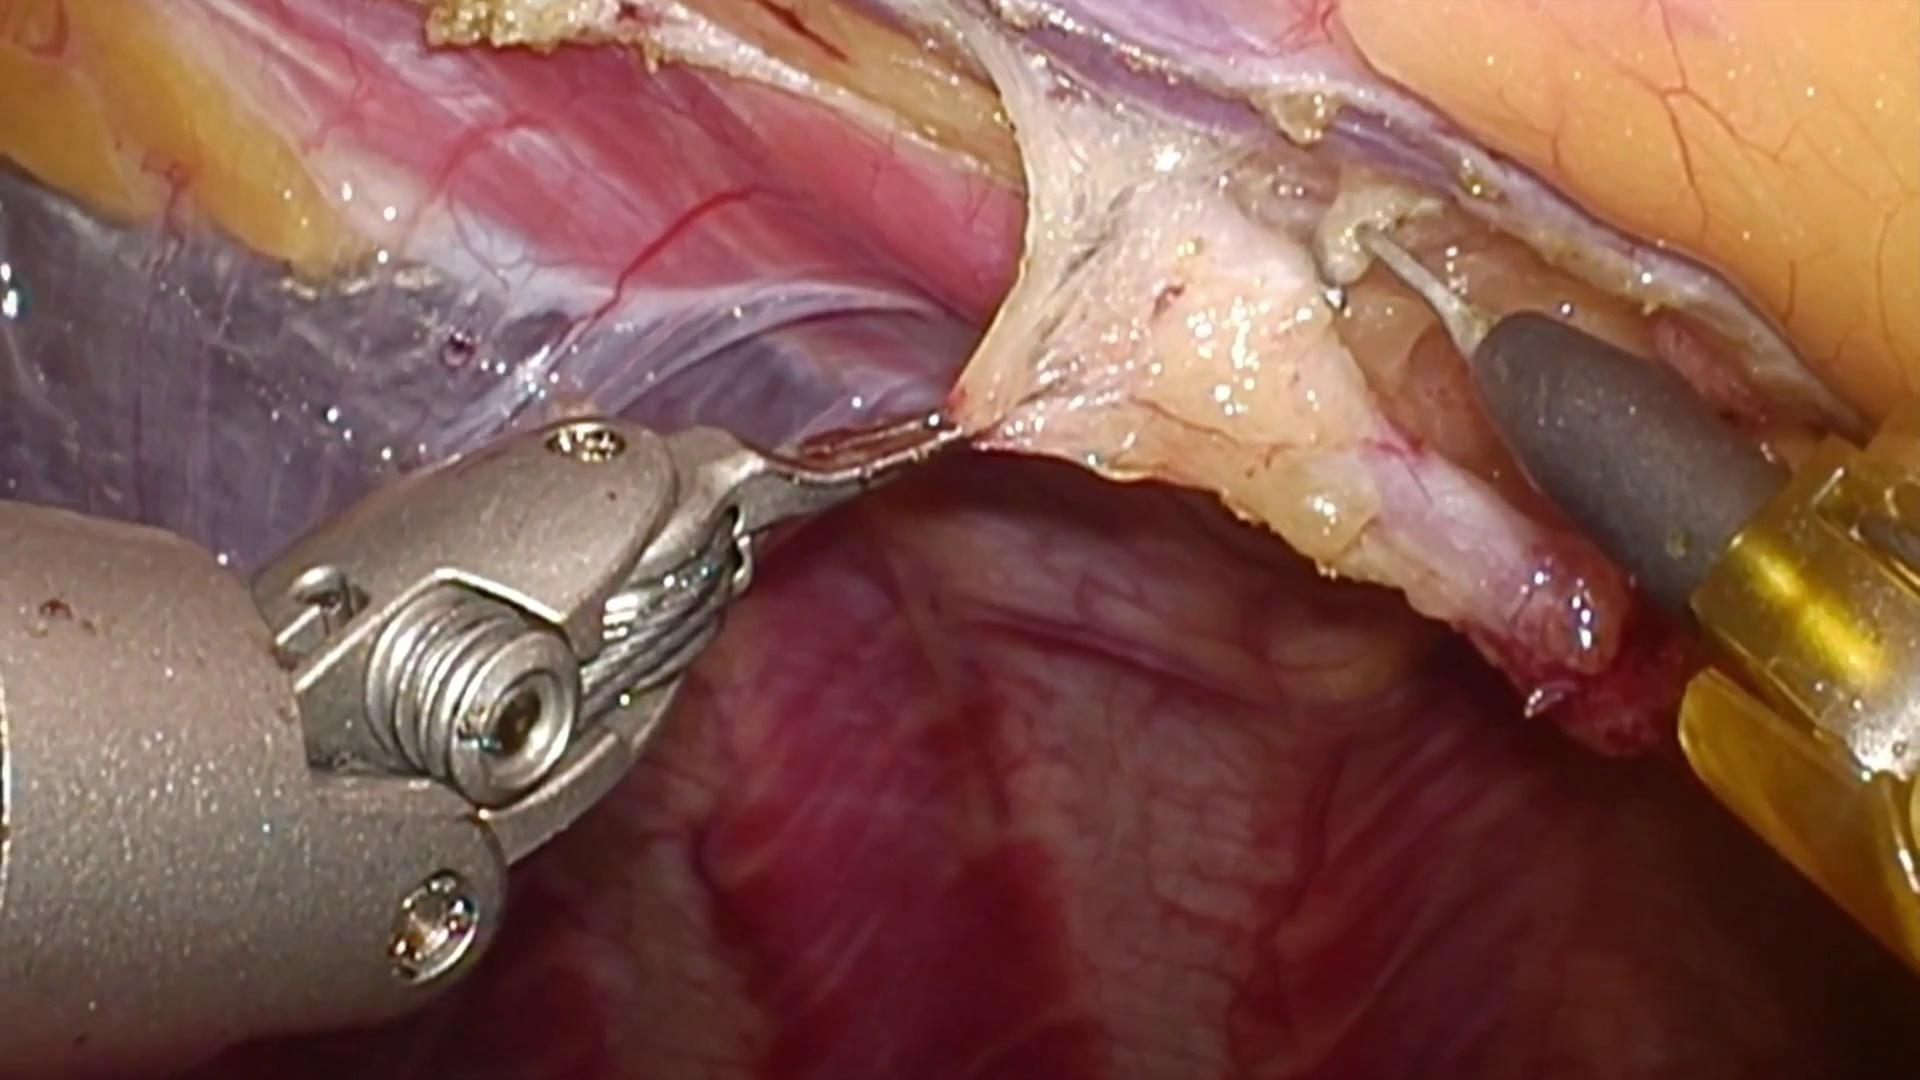Cautery_Spatula: (1352, 215, 1789, 611)
Debakey: (659, 401, 998, 530)
